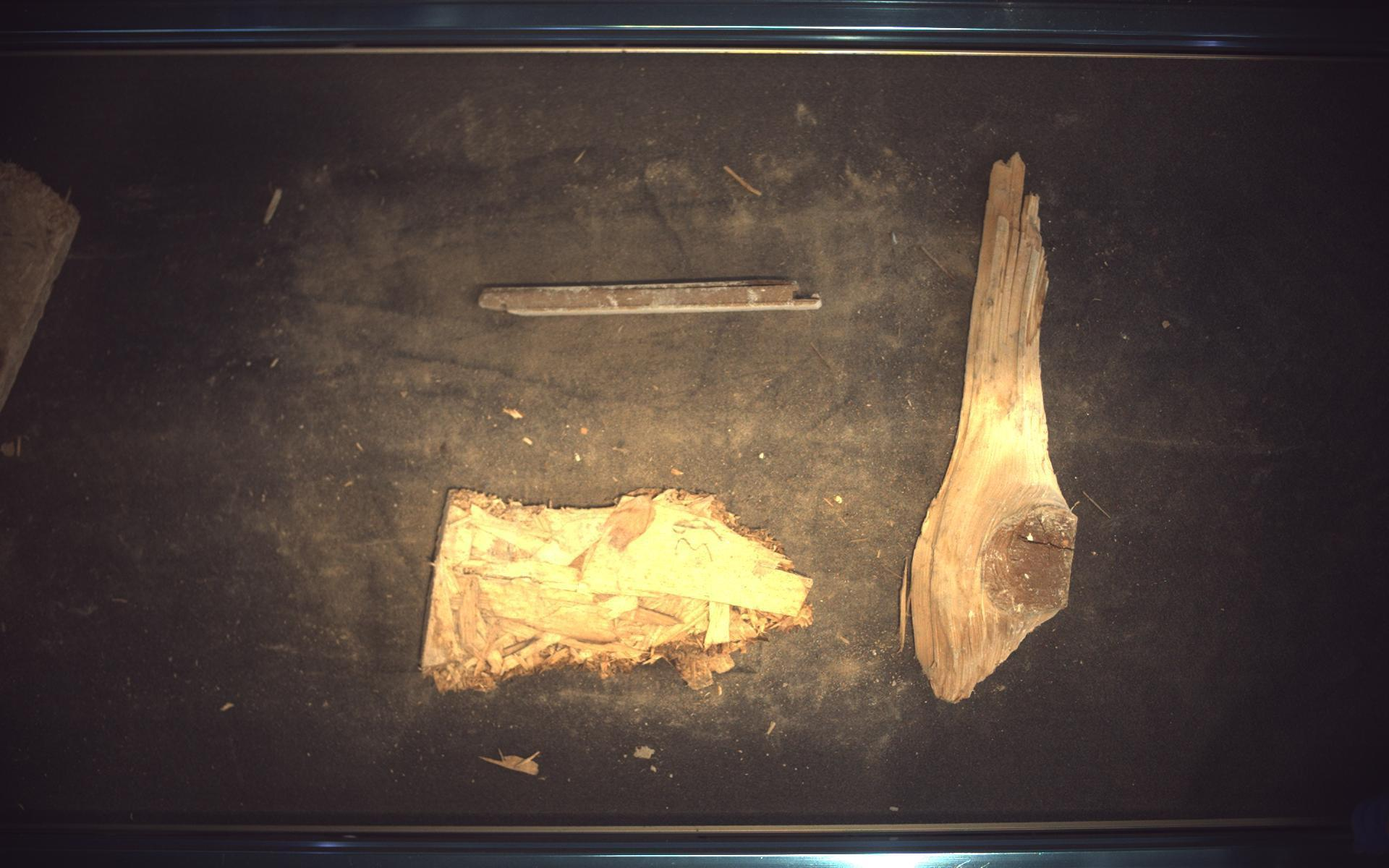wood: (904, 153, 1079, 703), (421, 489, 814, 692), (478, 278, 823, 316)
